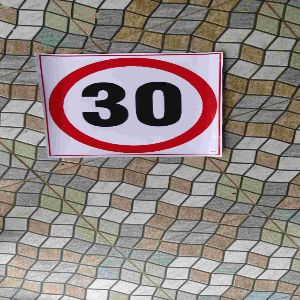speedlimit30: (38, 50, 222, 156)
